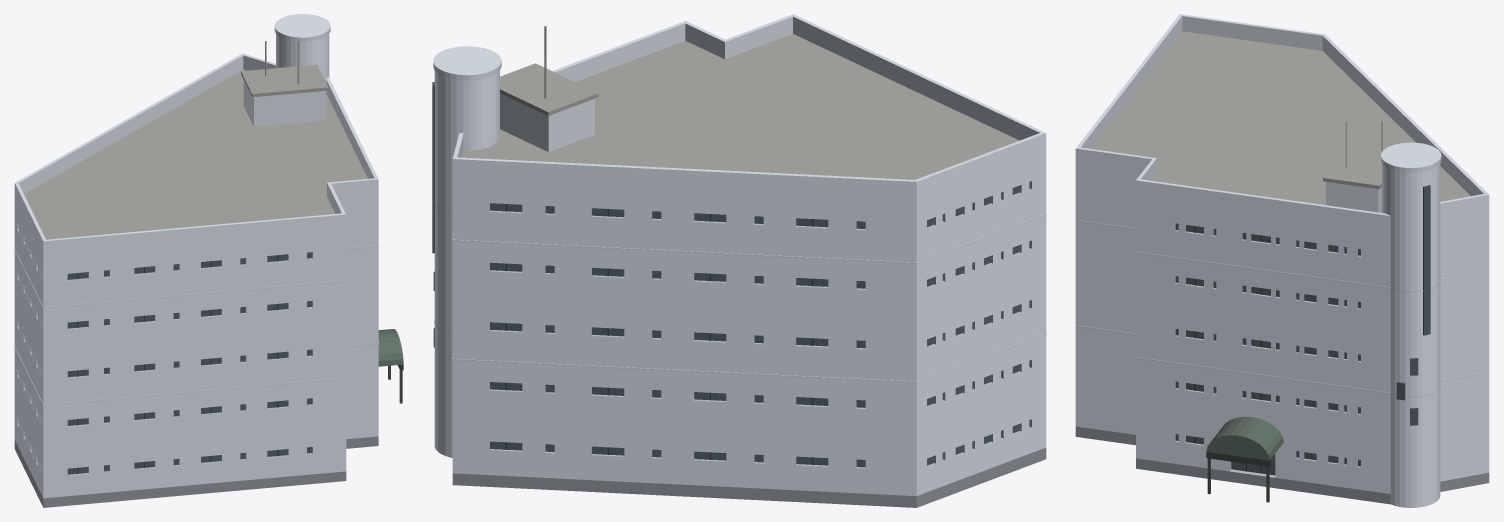
3 renders of one model, left to right at view 1: azimuth 30°, elevation 25°; view 2: azimuth 150°, elevation 25°; view 3: azimuth 270°, elevation 25°, orthographic. The views are drawn at different scales.
Visible parts, largest first — view 1: wing4__wall-plaster, wing4__roof, wing4__parapet-concrete, wing4__base-stone, wing4__glass, wing4__reveal-concrete, wing4__drum-plaster, wing4__canopy-roof; view 2: wing4__wall-plaster, wing4__roof, wing4__parapet-concrete, wing4__drum-plaster, wing4__glass, wing4__base-stone, wing4__reveal-concrete; view 3: wing4__wall-plaster, wing4__roof, wing4__drum-plaster, wing4__parapet-concrete, wing4__glass, wing4__base-stone, wing4__canopy-roof, wing4__reveal-concrete.
Part boxes in pixels (<box>): wing4__wall-plaster: <box>14,179,378,498</box>; wing4__roof: <box>24,64,367,239</box>; wing4__parapet-concrete: <box>14,14,378,406</box>; wing4__base-stone: <box>14,436,378,507</box>; wing4__glass: <box>67,252,312,474</box>; wing4__reveal-concrete: <box>17,222,312,475</box>; wing4__drum-plaster: <box>276,34,329,92</box>; wing4__canopy-roof: <box>378,329,403,366</box>; wing4__wall-plaster: <box>452,133,1046,496</box>; wing4__roof: <box>462,34,1019,179</box>; wing4__parapet-concrete: <box>433,14,1046,383</box>; wing4__drum-plaster: <box>434,71,499,457</box>; wing4__glass: <box>432,82,1030,467</box>; wing4__base-stone: <box>452,447,1046,507</box>; wing4__reveal-concrete: <box>489,181,1031,468</box>; wing4__wall-plaster: <box>1075,148,1489,493</box>; wing4__roof: <box>1091,31,1470,205</box>; wing4__drum-plaster: <box>1382,164,1440,507</box>; wing4__parapet-concrete: <box>1075,14,1489,397</box>; wing4__glass: <box>1175,185,1430,475</box>; wing4__base-stone: <box>1075,426,1489,504</box>; wing4__canopy-roof: <box>1206,416,1283,460</box>; wing4__reveal-concrete: <box>1175,223,1360,477</box>.
Size of the model in its own units: 31.97 by 25.7 by 27.08.
